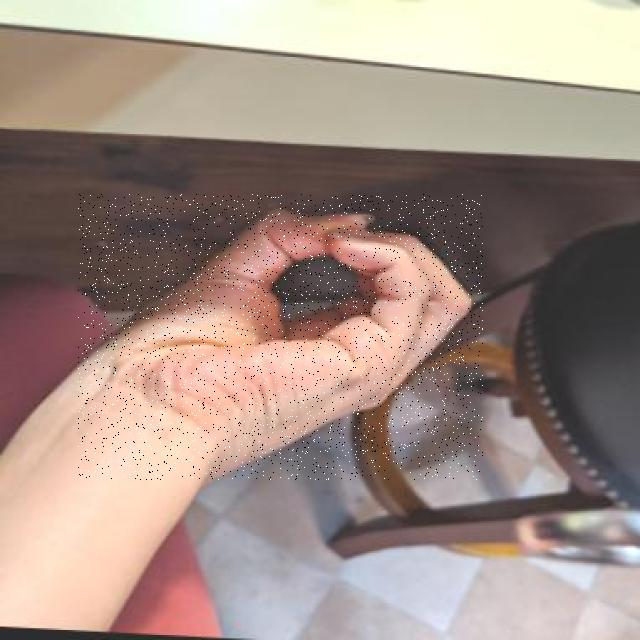O: (78, 194, 483, 480)
